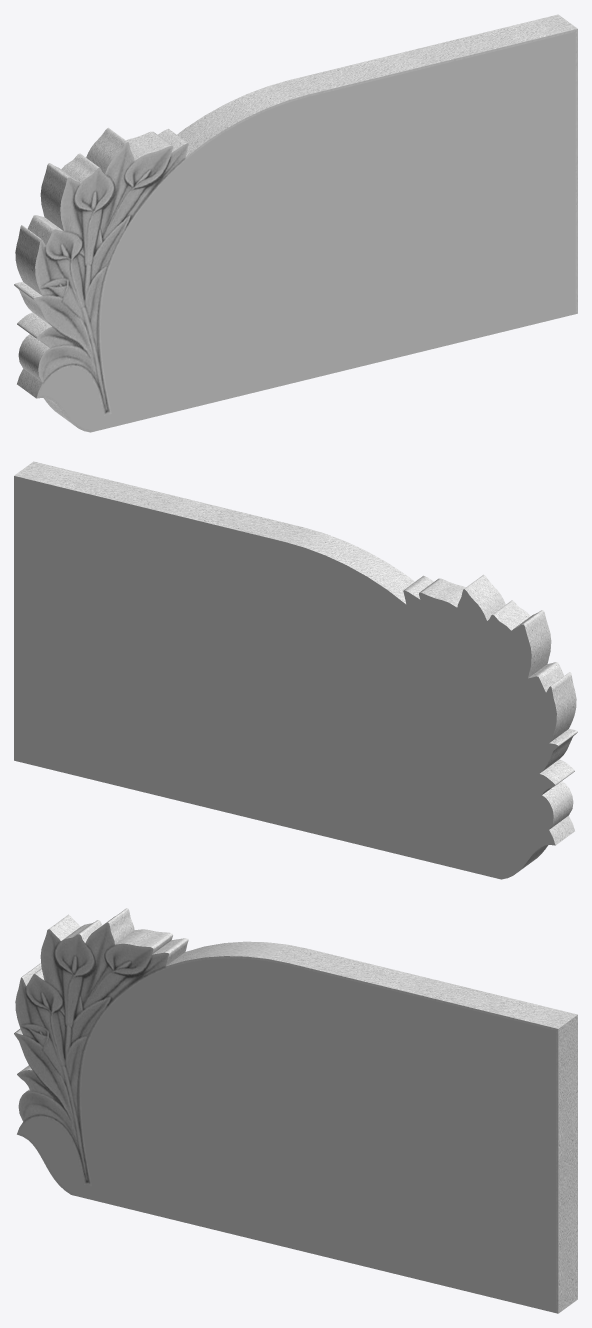
File: cnefa4722b38_tkf.glb
The picture shows the model from 3 angles, top to bottom: view 1: azimuth 30°, elevation 25°; view 2: azimuth 150°, elevation 25°; view 3: azimuth 330°, elevation 25°; orthographic projection.
Visible parts, largest first — view 1: Pam-d03-271, Pam-d03-271_2_notexture; view 2: Pam-d03-271, Pam-d03-271_2_notexture; view 3: Pam-d03-271, Pam-d03-271_2_notexture.
Boxes of the visible parts, x1=… form: Pam-d03-271: x1=39, y1=32, x2=575, y2=430; Pam-d03-271_2_notexture: x1=14, y1=14, x2=577, y2=432; Pam-d03-271: x1=14, y1=476, x2=558, y2=879; Pam-d03-271_2_notexture: x1=14, y1=461, x2=577, y2=871; Pam-d03-271: x1=20, y1=958, x2=555, y2=1312; Pam-d03-271_2_notexture: x1=14, y1=908, x2=577, y2=1313.
Bounding box in the file's own units: 0.8 × 0.4 × 0.05.
1 material, 1 textured.
